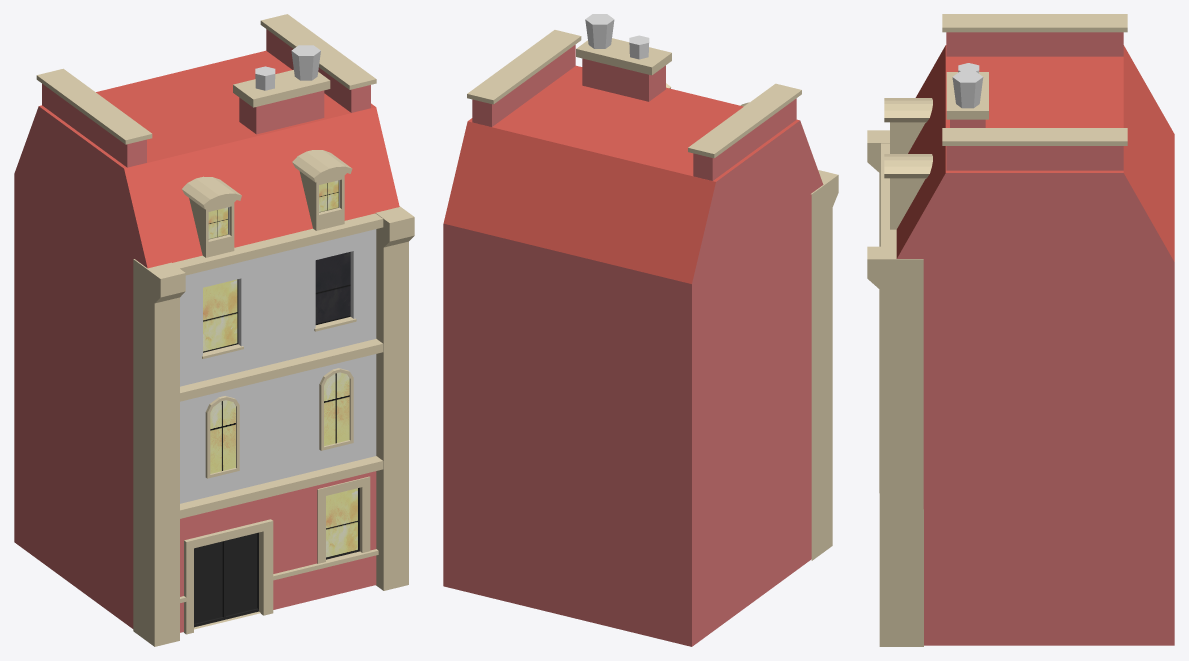
Rendered from Bloc_Place_02.fbx.
3 renders of one model, left to right at view 1: azimuth 30°, elevation 25°; view 2: azimuth 150°, elevation 25°; view 3: azimuth 270°, elevation 25°, orthographic. The views are drawn at different scales.
Parts seen in each view (by area): view 1: Bloc_Place_02; view 2: Bloc_Place_02; view 3: Bloc_Place_02.
Part boxes in pixels (x1,y1,x2,y2): Bloc_Place_02: [14, 14, 414, 646]; Bloc_Place_02: [443, 14, 838, 646]; Bloc_Place_02: [867, 14, 1174, 646].
Size of the model in its own units: 659 by 1277 by 655.
